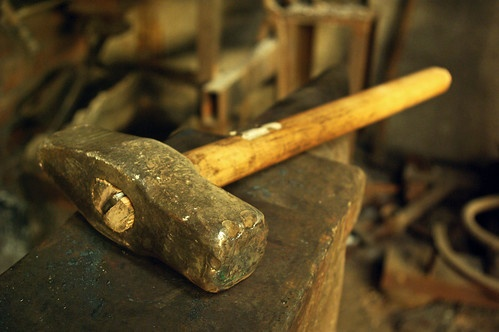hammer: (37, 62, 454, 294)
